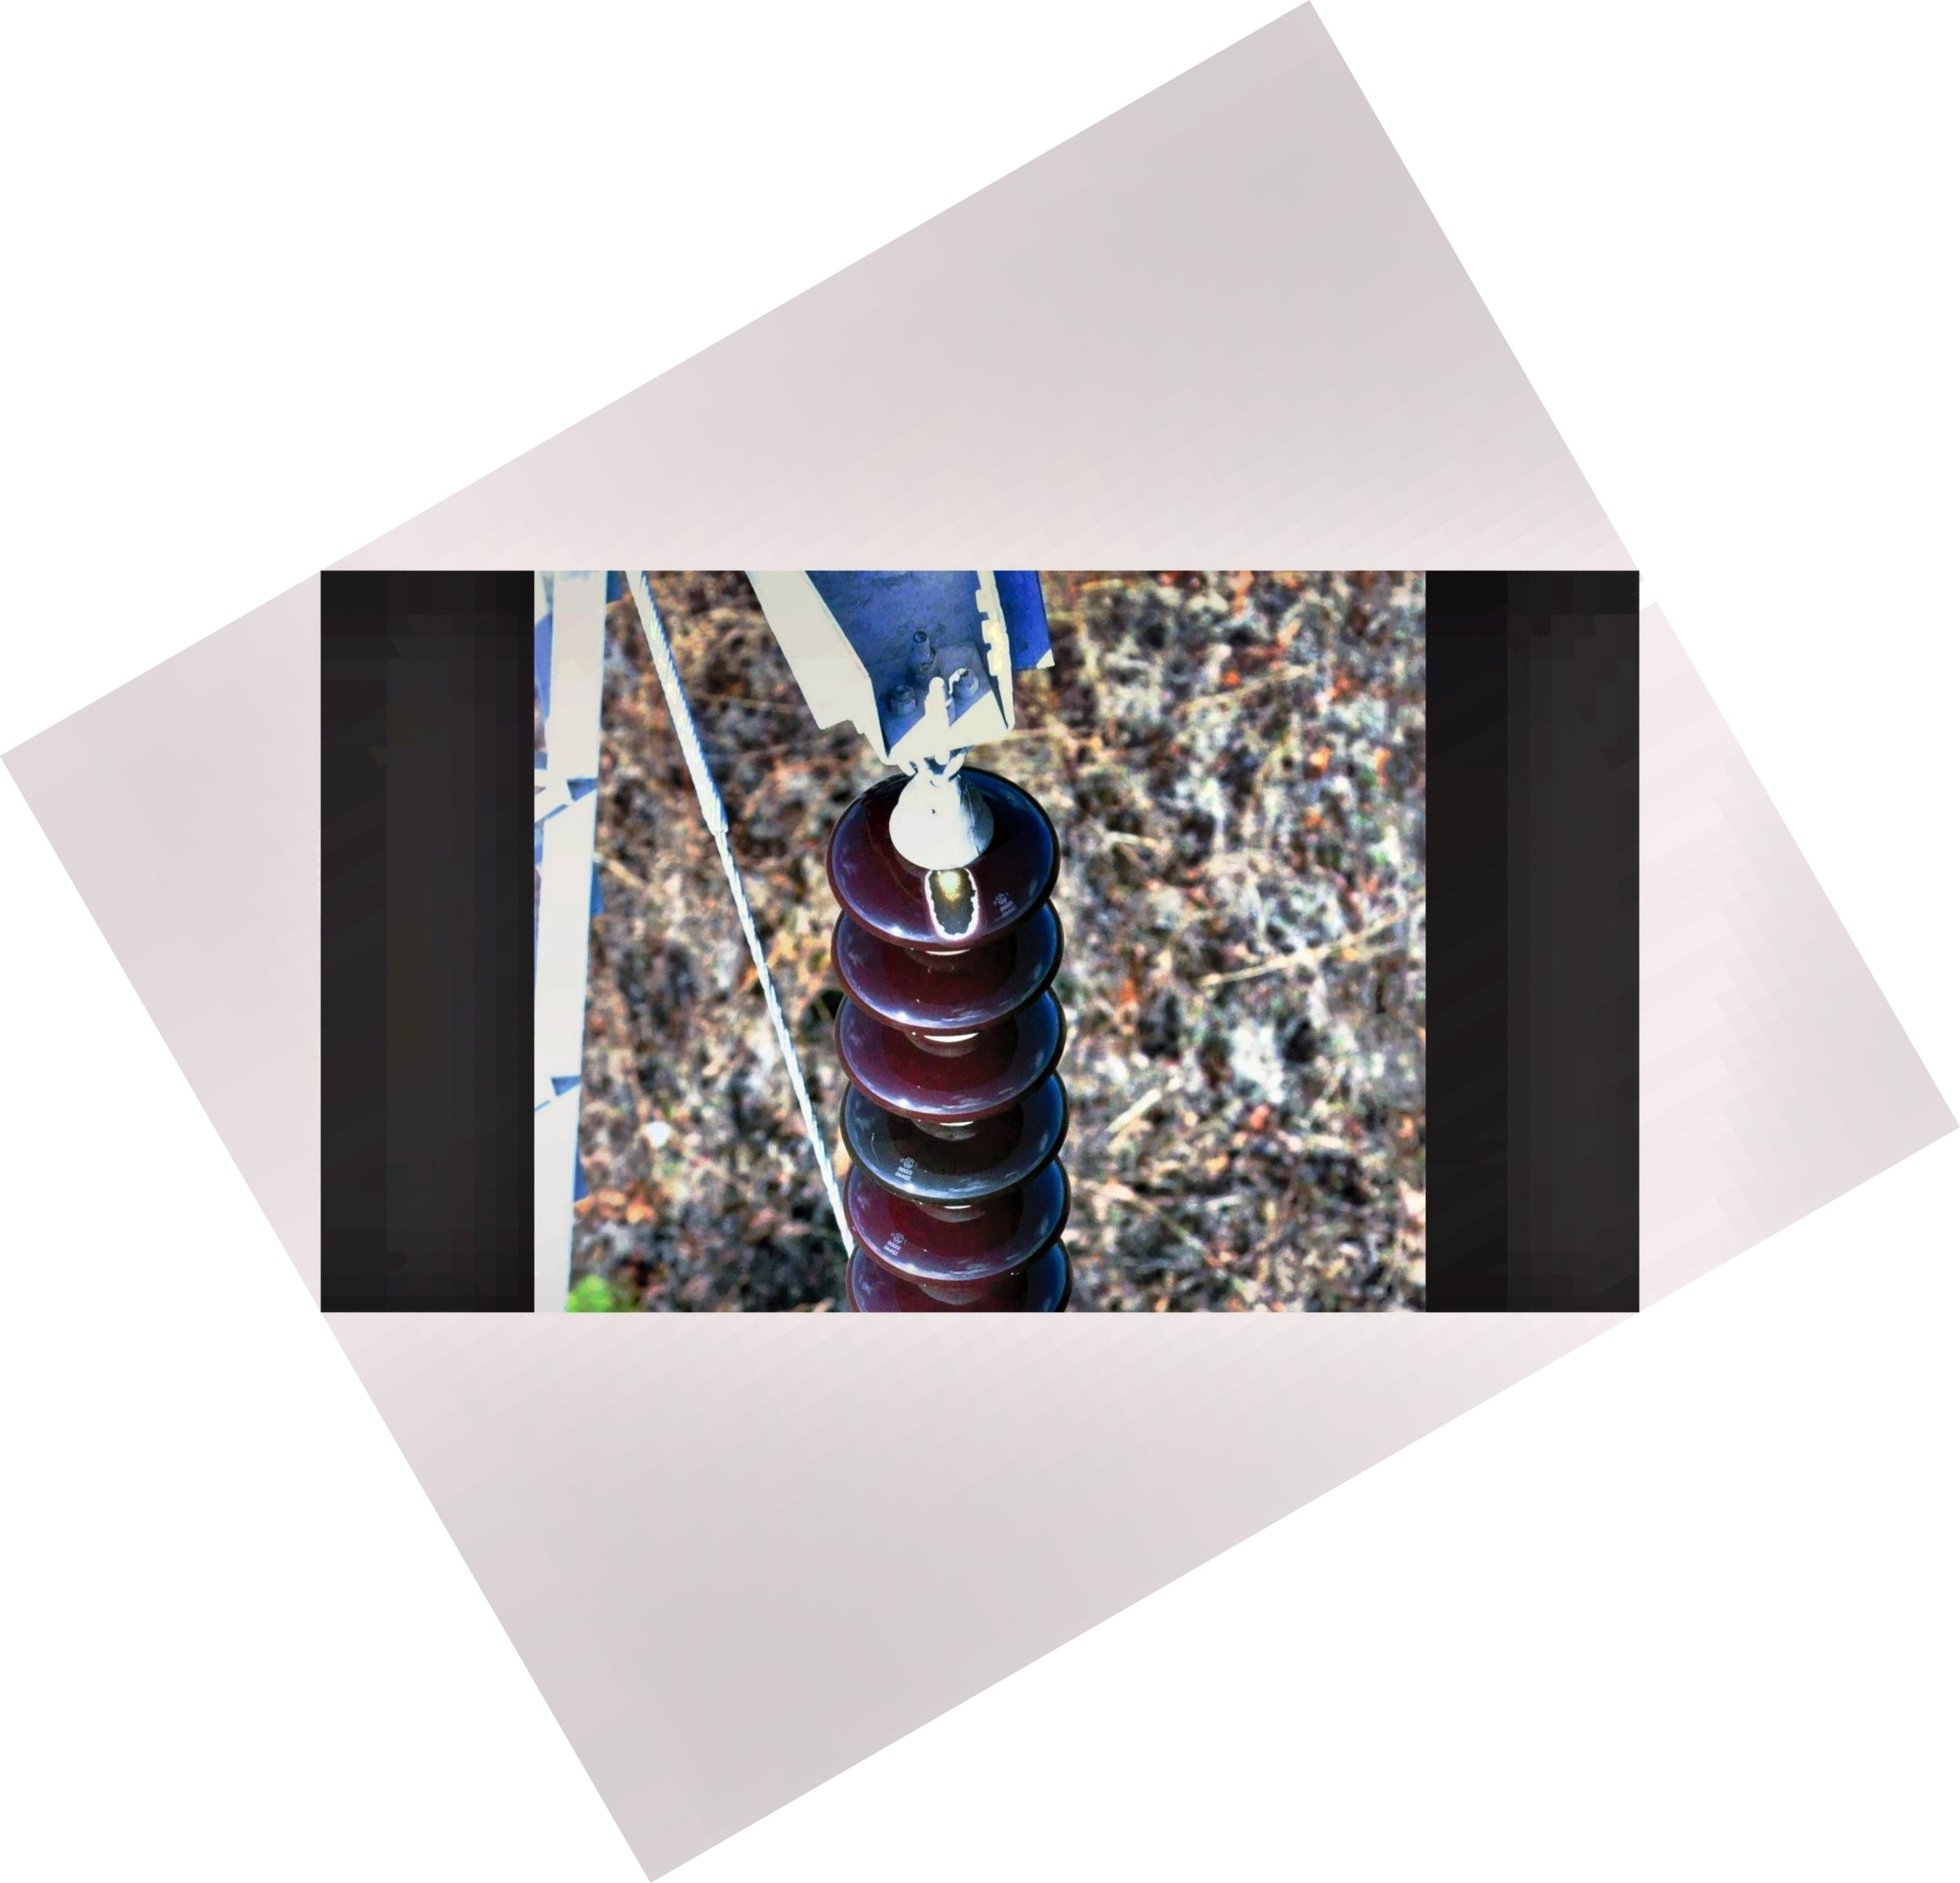Insulator flashover: (812, 758, 1073, 969)
